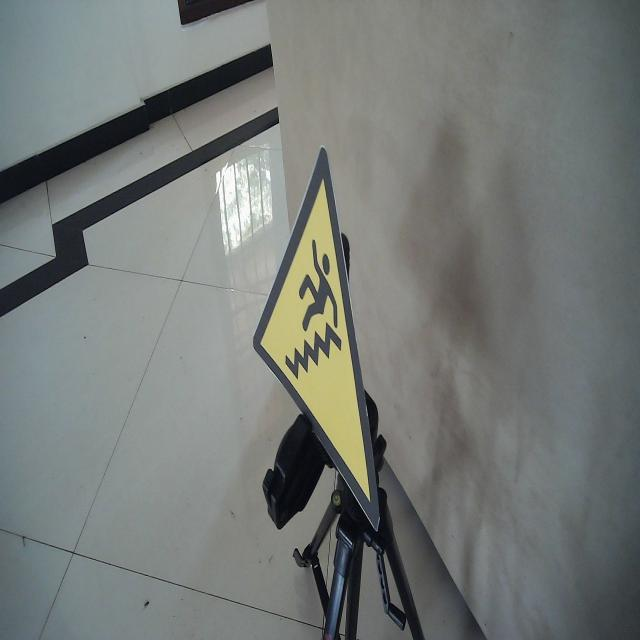stairs: (240, 146, 382, 535)
